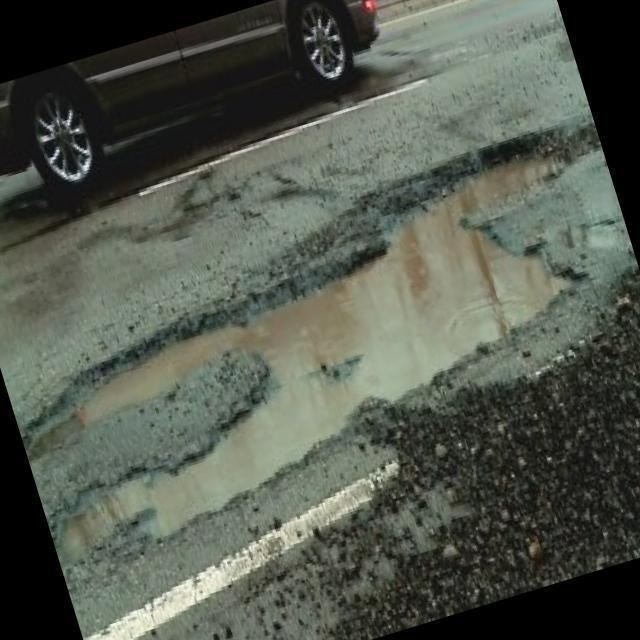pothole: (140, 148, 544, 518)
